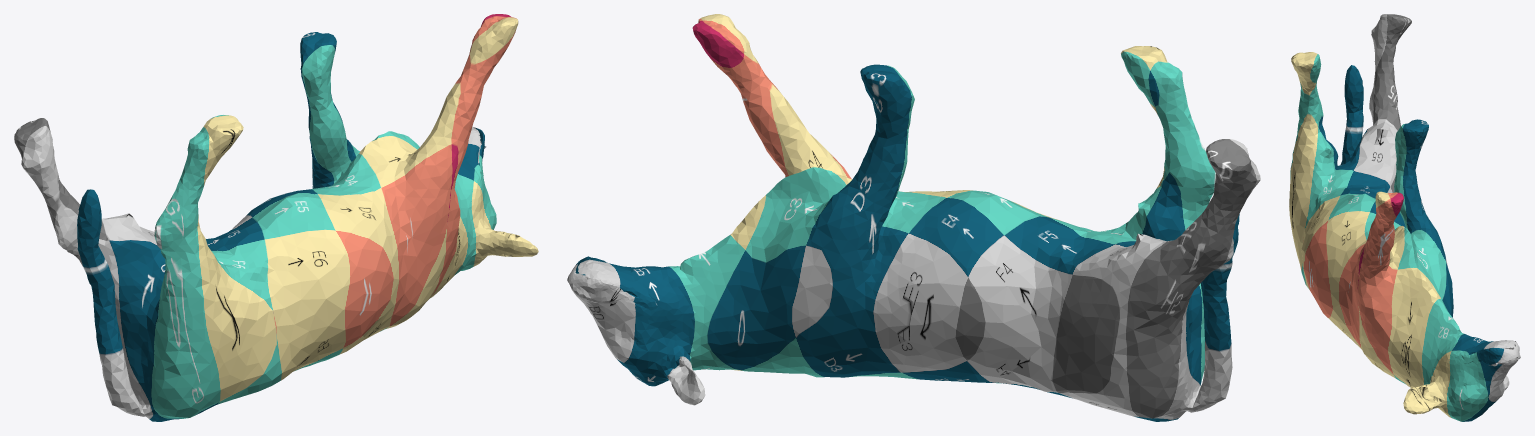
File: cow_04-cow_06.obj
3 renders of one model, left to right at view 1: azimuth 30°, elevation 25°; view 2: azimuth 150°, elevation 25°; view 3: azimuth 270°, elevation 25°, orthographic. The views are drawn at different scales.
Visible parts, largest first — view 1: cow_04-cow_06_export; view 2: cow_04-cow_06_export; view 3: cow_04-cow_06_export.
Boxes of the visible parts, bbox=[...] form: cow_04-cow_06_export: bbox=[14, 14, 538, 421]; cow_04-cow_06_export: bbox=[567, 14, 1260, 421]; cow_04-cow_06_export: bbox=[1289, 14, 1520, 421].
Size of the model in its own units: 0.9906 by 0.5382 by 0.4724.
